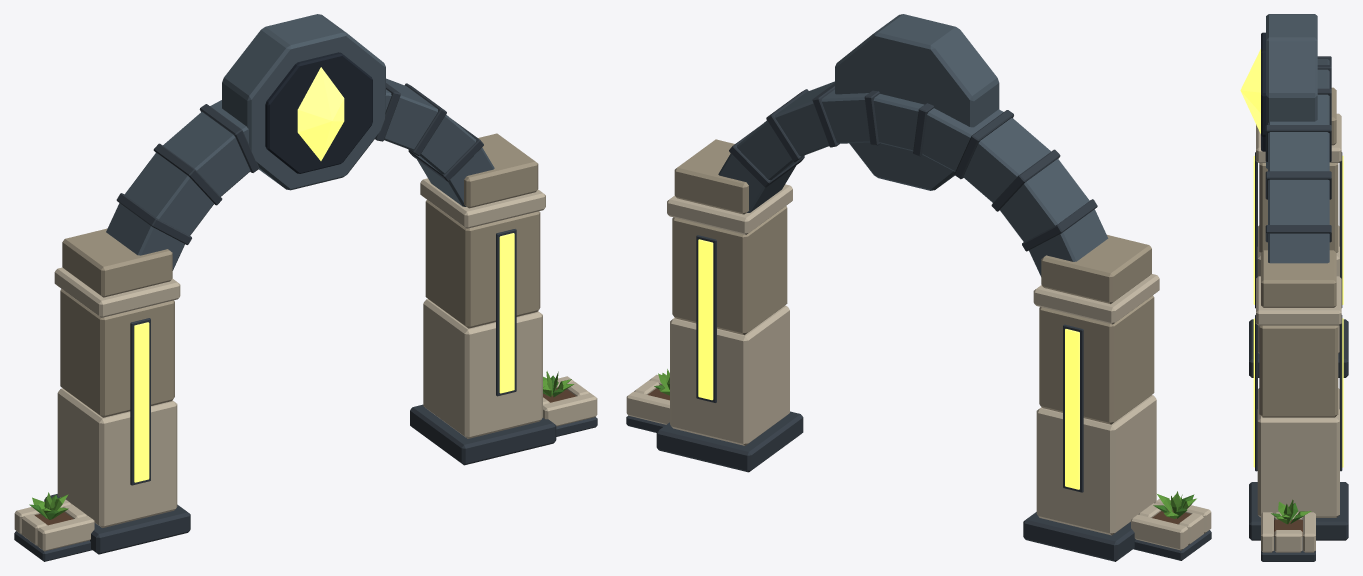
The model's file is Court_EntranceArch.fbx.
The picture shows the model from 3 angles, left to right: view 1: azimuth 30°, elevation 25°; view 2: azimuth 150°, elevation 25°; view 3: azimuth 270°, elevation 25°; orthographic projection. The views are drawn at different scales.
Parts seen in each view (by area): view 1: Concrete, ConcreteDark, Frame, FrameDark, Slate, Lamp, Emblem, Leaf; view 2: Frame, Concrete, ConcreteDark, FrameDark, Lamp; view 3: Frame, ConcreteDark, Concrete, FrameDark, Lamp, Emblem, Slate, Leaf, Soil.
Part boxes in pixels (x1,y1,x2,y2): Concrete: (14,178,597,551); ConcreteDark: (60,133,540,417); Frame: (106,14,494,270); FrameDark: (14,83,597,561); Slate: (265,52,372,173); Lamp: (134,233,514,482); Emblem: (297,67,344,160); Leaf: (32,371,574,519); Frame: (718,14,1108,276); Concrete: (626,184,1211,550); ConcreteDark: (672,139,1154,424); FrameDark: (626,83,1211,561); Lamp: (698,239,1079,489); Frame: (1266,14,1329,263); ConcreteDark: (1259,87,1338,417); Concrete: (1256,113,1341,552); FrameDark: (1249,56,1348,561); Lamp: (1253,155,1343,467); Emblem: (1240,49,1260,133); Slate: (1261,32,1265,151); Leaf: (1276,499,1311,524); Soil: (1274,519,1302,536).
Bounding box in the file's own units: 17 × 13.27 × 3.15.
